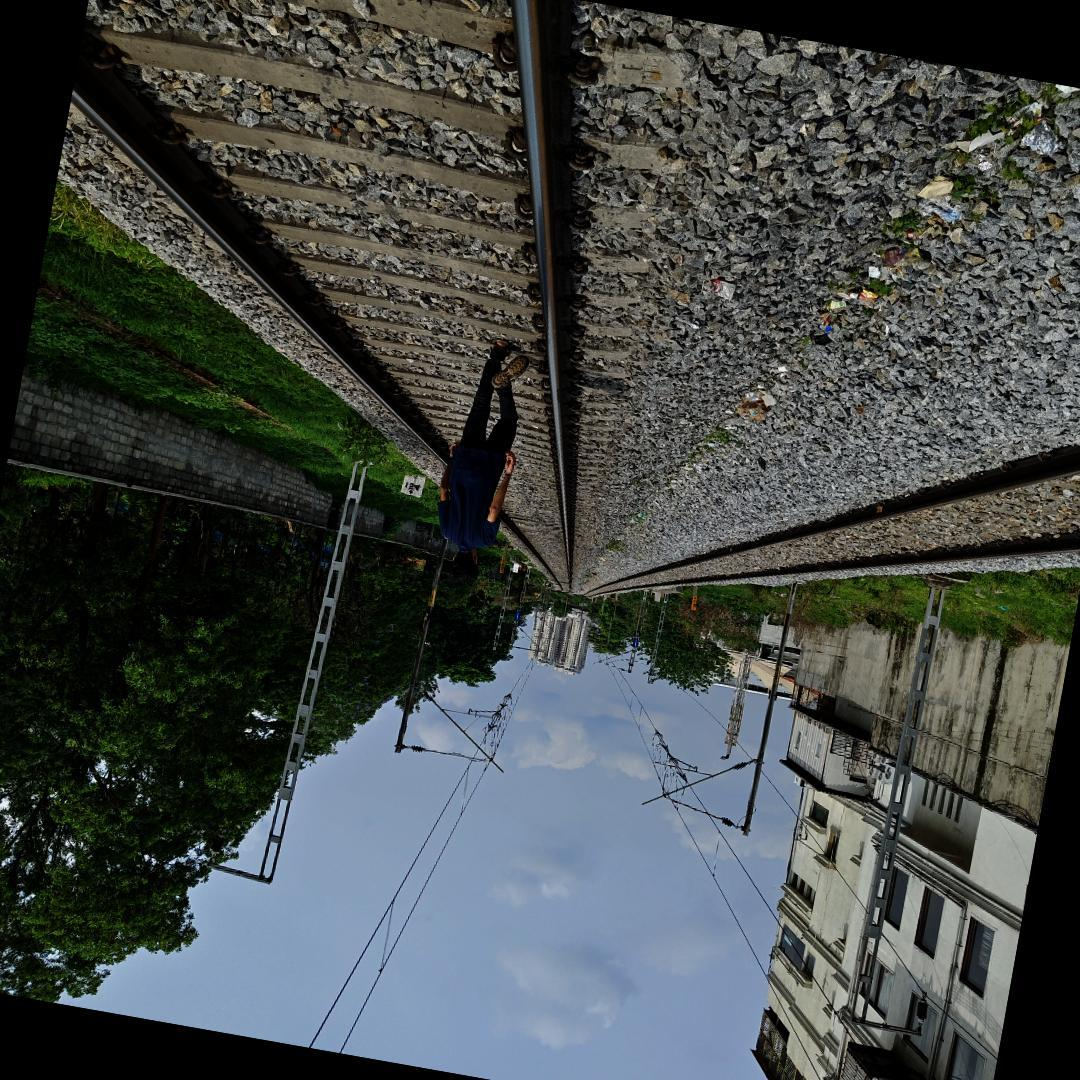standing: (405, 324, 536, 586)
track: (69, 0, 598, 597)
